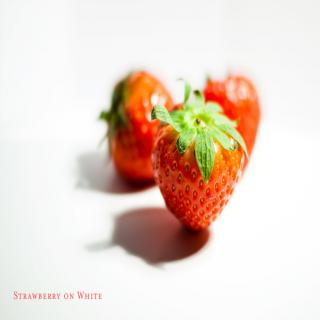Strawberry: (100, 71, 175, 182), (200, 74, 260, 175)
